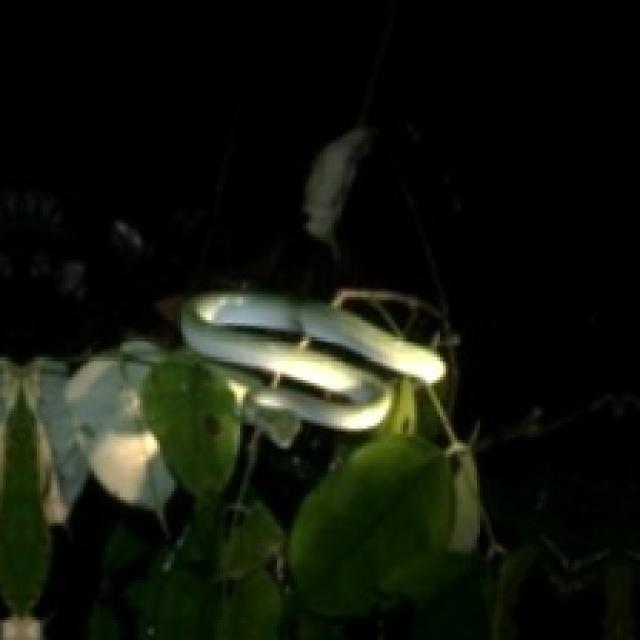north ph temple pitviper: (180, 291, 443, 429)
